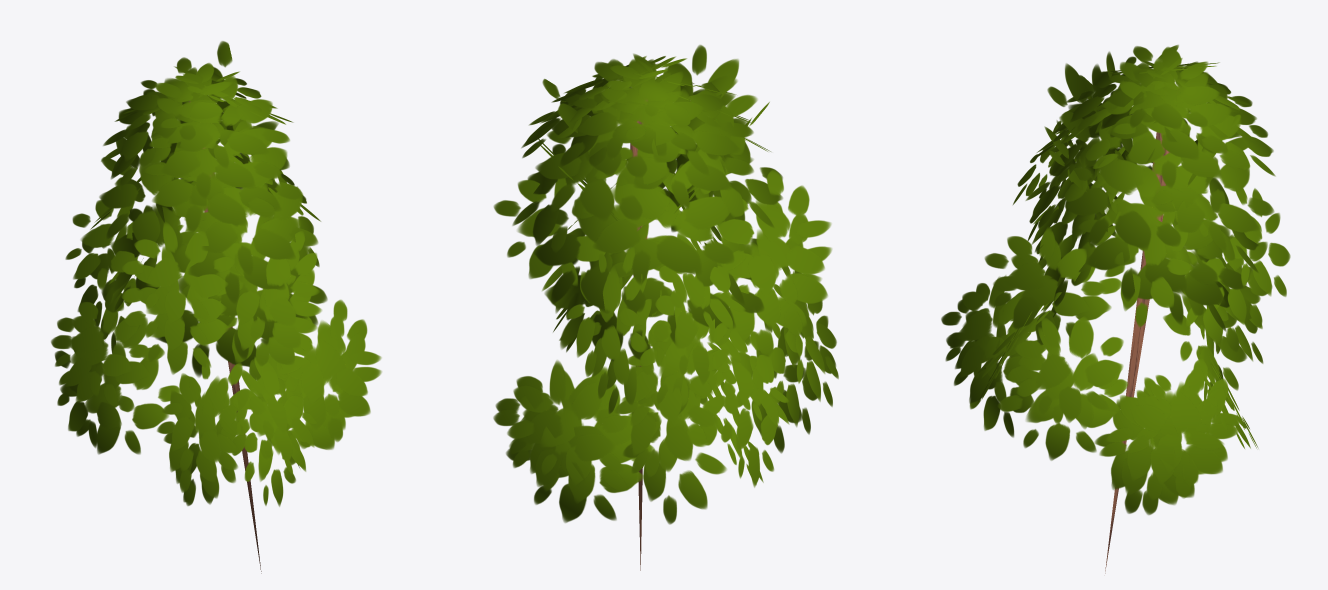
The model's file is broad1_far.glb.
3 views of the same model, side by side, from view 1: azimuth 30°, elevation 25°; view 2: azimuth 150°, elevation 25°; view 3: azimuth 270°, elevation 25° (orthographic). The views are drawn at different scales.
Parts seen in each view (by area): view 1: CommonTree_1; view 2: CommonTree_1; view 3: CommonTree_1.
Boxes of the visible parts, x1,y1,x2,y2 form: CommonTree_1: (51,41,381,573); CommonTree_1: (493,45,838,570); CommonTree_1: (941,45,1290,573).
Bounding box in the file's own units: 3.09 × 4.94 × 3.51.
Materials: 2 (2 with a texture image).
